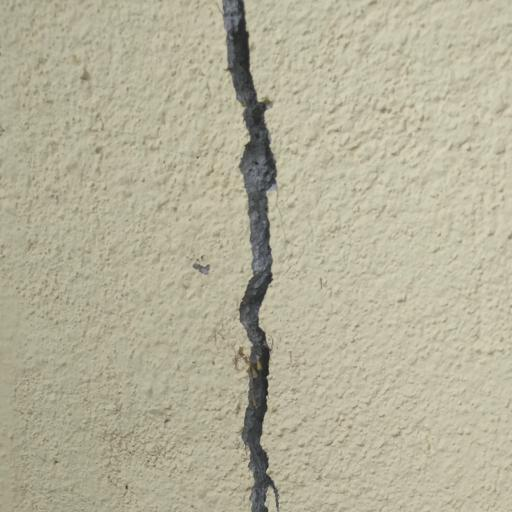major_crack: (212, 0, 295, 512)
